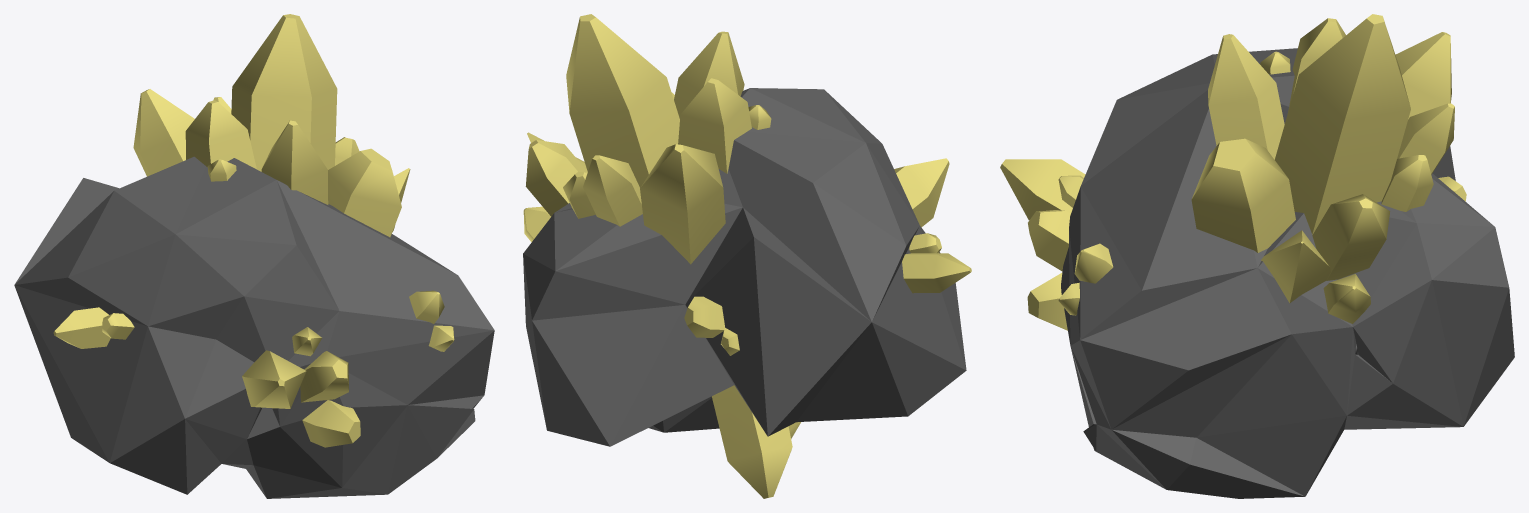
The model's file is crystal_stone_4.fbx.
3 views of the same model, side by side, from view 1: azimuth 30°, elevation 25°; view 2: azimuth 150°, elevation 25°; view 3: azimuth 270°, elevation 25° (orthographic). The views are drawn at different scales.
Parts seen in each view (by area): view 1: Cliff4_low, pCube95, pCube94, pCube97, pCube93, pCube13, pCube22, pCube23, pCube24, pCube74, pCube9, pCube73 (+2 smaller); view 2: Cliff4_low, pCube95, pCube97, pCube20, pCube13, pCube96, pCube5, pCube93, pCube22, pCube74, pCube76, pCube98 (+2 smaller); view 3: Cliff4_low, pCube95, pCube94, pCube93, pCube5, pCube97, pCube22, pCube11, pCube96, pCube98, pCube24, pCube77 (+4 smaller).
Boxes of the visible parts, x1,y1,x2,y2 form: Cliff4_low: (14, 156, 494, 498); pCube95: (231, 14, 337, 171); pCube94: (328, 148, 401, 237); pCube97: (133, 89, 194, 176); pCube93: (261, 120, 328, 204); pCube13: (185, 100, 256, 169); pCube22: (242, 350, 306, 408); pCube23: (302, 400, 360, 447); pCube24: (300, 351, 348, 402); pCube74: (53, 307, 110, 348); pCube9: (409, 290, 444, 323); pCube73: (102, 313, 134, 339); Cliff4_low: (523, 88, 966, 446); pCube95: (566, 14, 679, 187); pCube97: (640, 144, 725, 264); pCube20: (712, 385, 792, 498); pCube13: (678, 78, 751, 173); pCube96: (583, 155, 642, 226); pCube5: (525, 140, 587, 216); pCube93: (674, 31, 744, 118); pCube22: (894, 158, 949, 227); pCube74: (902, 253, 971, 293); pCube76: (684, 296, 724, 337); pCube98: (563, 171, 595, 218); Cliff4_low: (1061, 48, 1514, 498); pCube95: (1275, 14, 1410, 234); pCube94: (1191, 138, 1295, 252); pCube93: (1208, 34, 1284, 159); pCube5: (1312, 194, 1390, 280); pCube97: (1395, 32, 1451, 119); pCube22: (1000, 159, 1085, 220); pCube11: (1261, 230, 1330, 303); pCube96: (1397, 103, 1454, 174); pCube98: (1381, 155, 1433, 211); pCube24: (1028, 210, 1070, 271); pCube77: (1323, 274, 1370, 323).
Bounding box in the file's own units: 3.07 × 2.97 × 2.97.
